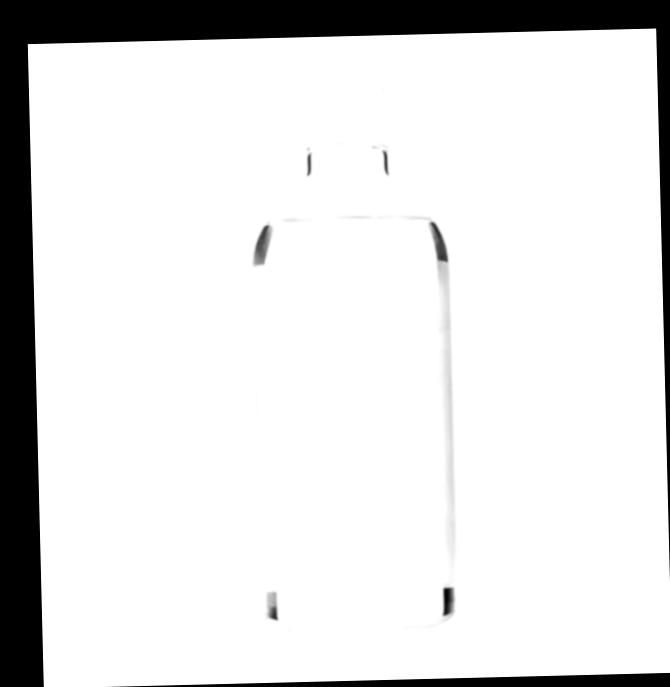cosmetic: (244, 70, 456, 628)
